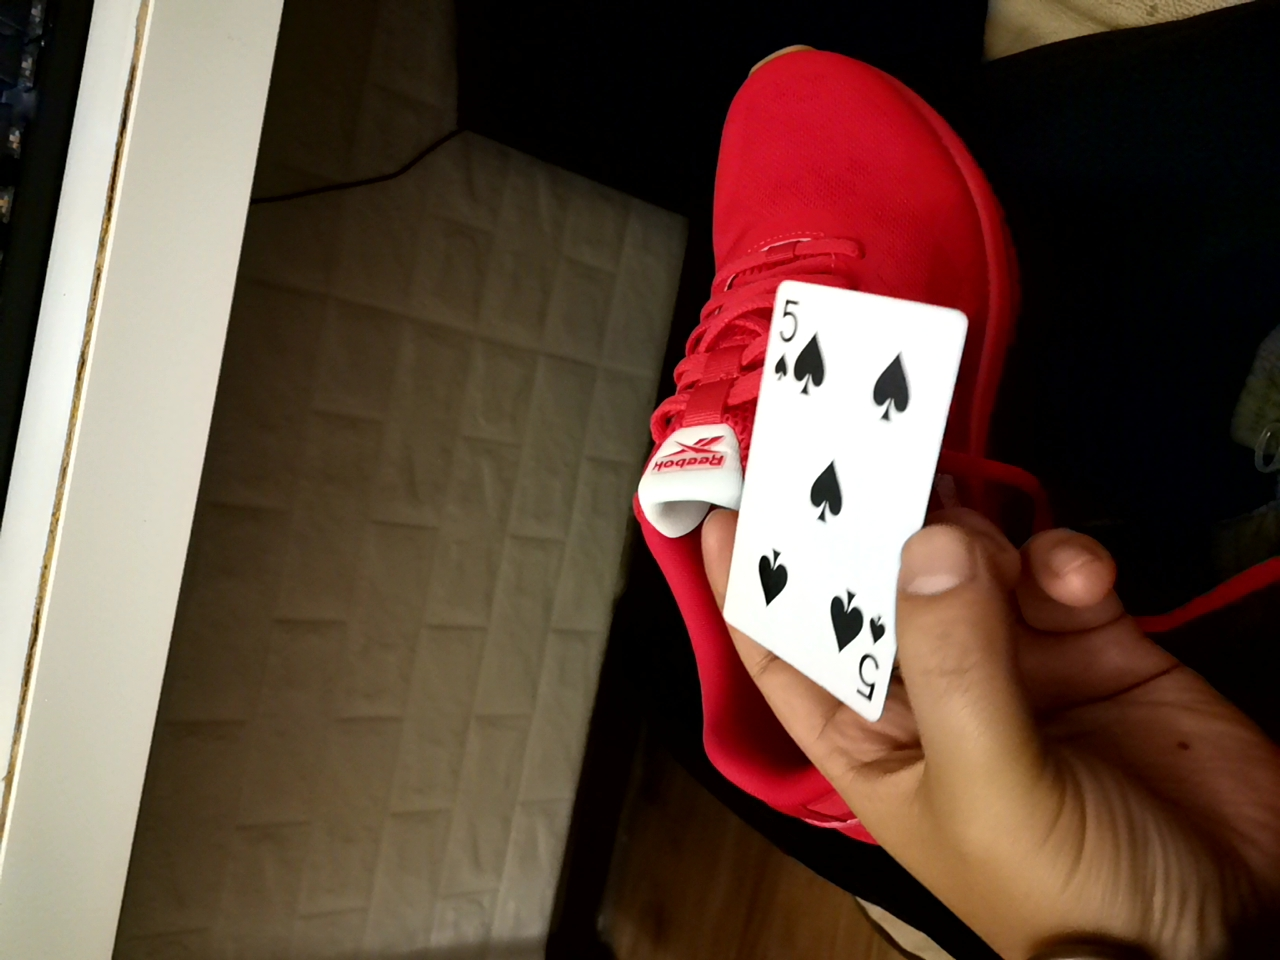ht 5: (673, 285, 962, 700)
